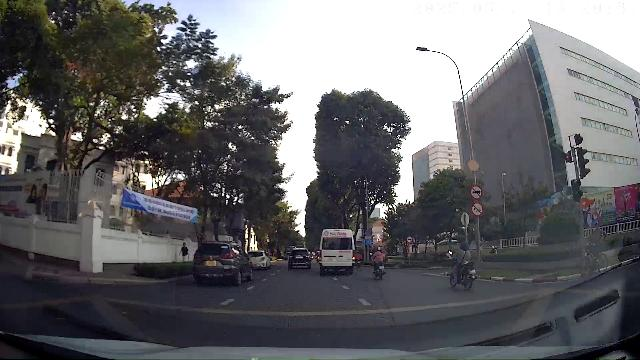128-cam-su-dung-coi: (471, 202, 484, 217)
